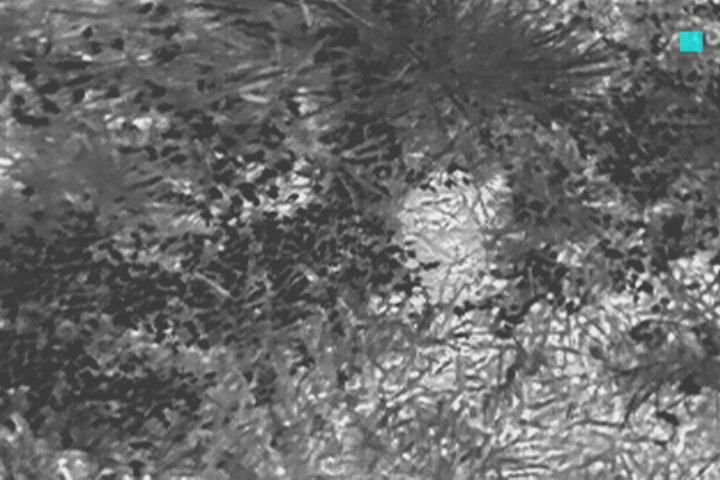landmine: (401, 142, 521, 303)
